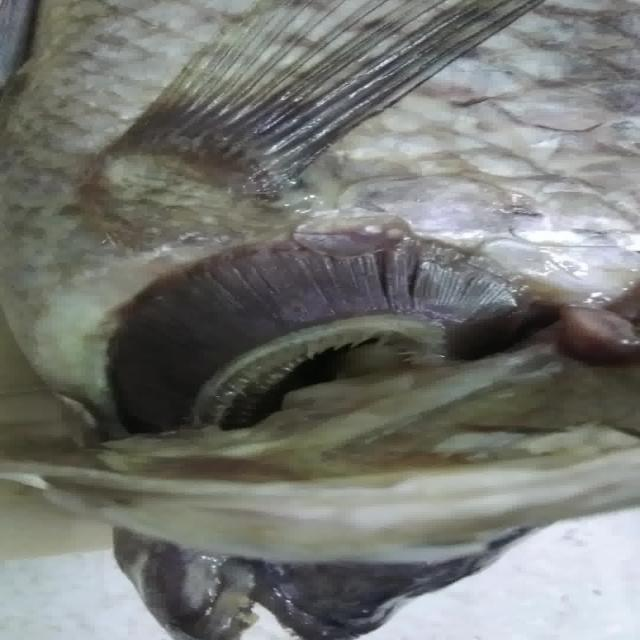Non-Fresh: (79, 216, 561, 424)
